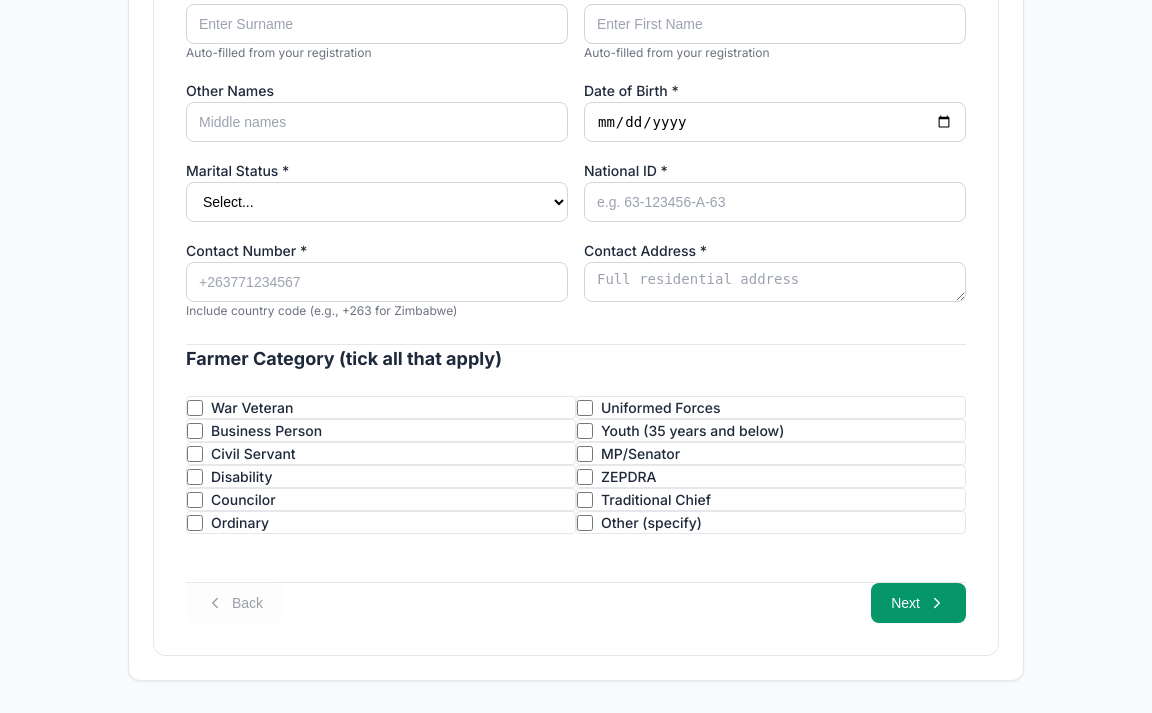
ApplicationForm - Years of Service › should show years of service field when Civil Servant is checked
The image size is (1152, 713).
(page scrolled)
Check Civil Servant checkbox
Click the text "Civil Servant": click(253, 454) 211,443 -> 296,464
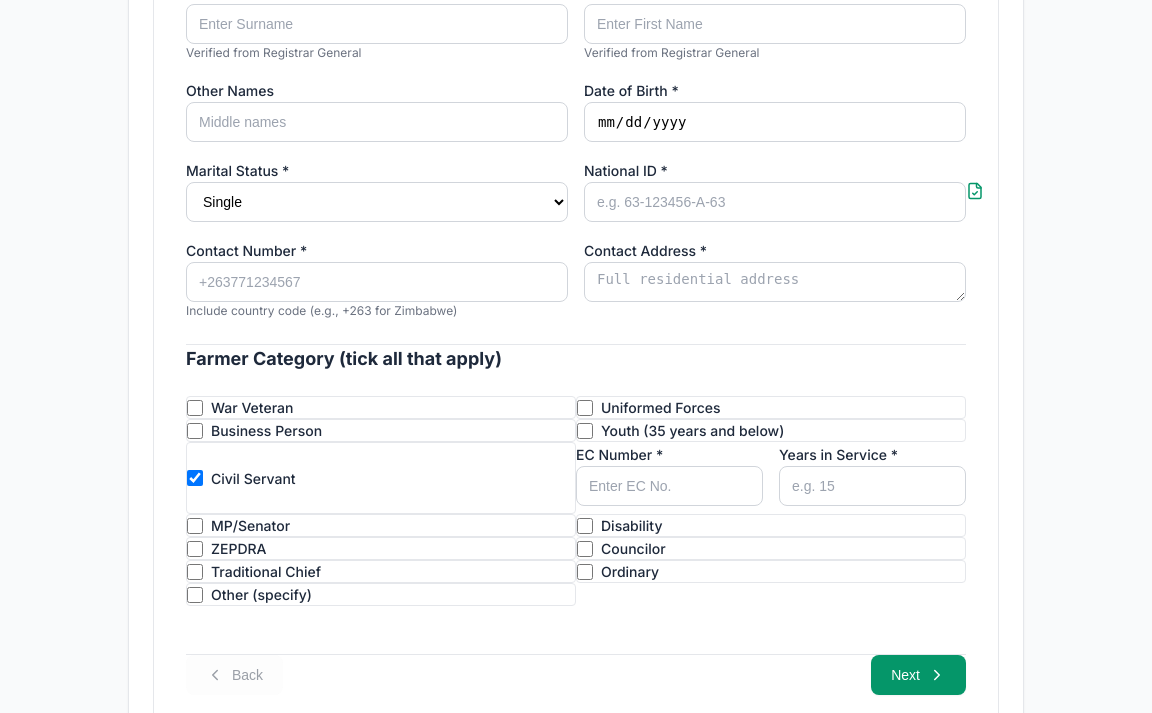
Check: the text "Years in Service *" is shown, box 779,446 -> 898,463
